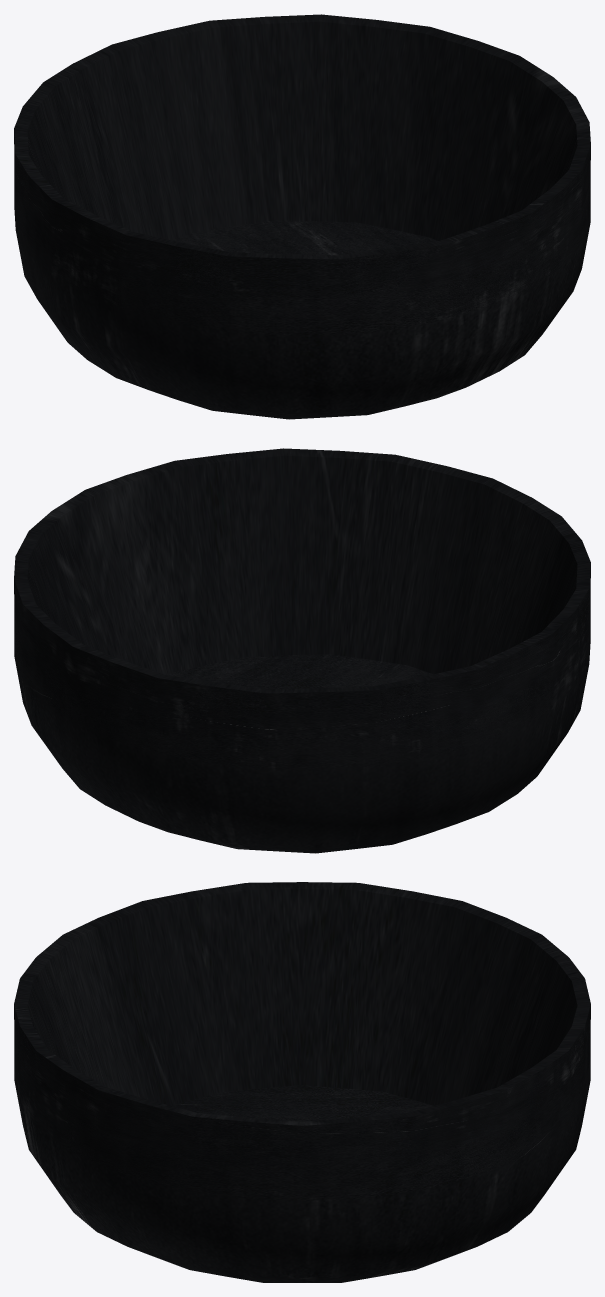
Rendered from Pocillo.fbx.
The picture shows the model from 3 angles, top to bottom: view 1: azimuth 30°, elevation 25°; view 2: azimuth 150°, elevation 25°; view 3: azimuth 270°, elevation 25°; orthographic projection.
Parts seen in each view (by area): view 1: Cylinder.002; view 2: Cylinder.002; view 3: Cylinder.002.
Boxes of the visible parts, x1,y1,x2,y2 form: Cylinder.002: (14,14,590,419); Cylinder.002: (14,448,590,853); Cylinder.002: (14,882,590,1282).
Bounding box in the file's own units: 91.49 × 34.35 × 91.49.
1 material, 1 textured.
